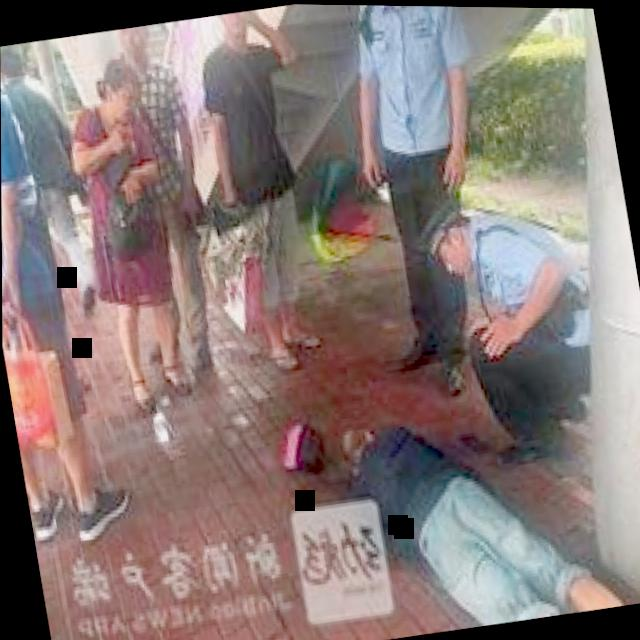Fall-Detected: (275, 352, 640, 640)
